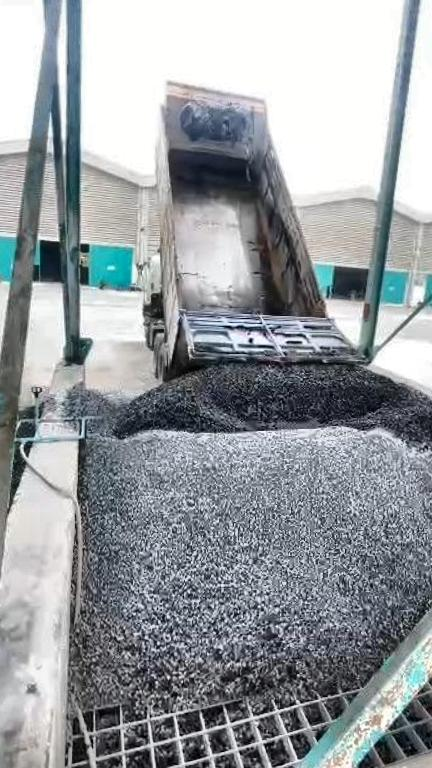gravel: (66, 366, 432, 708), (257, 217, 283, 313)
